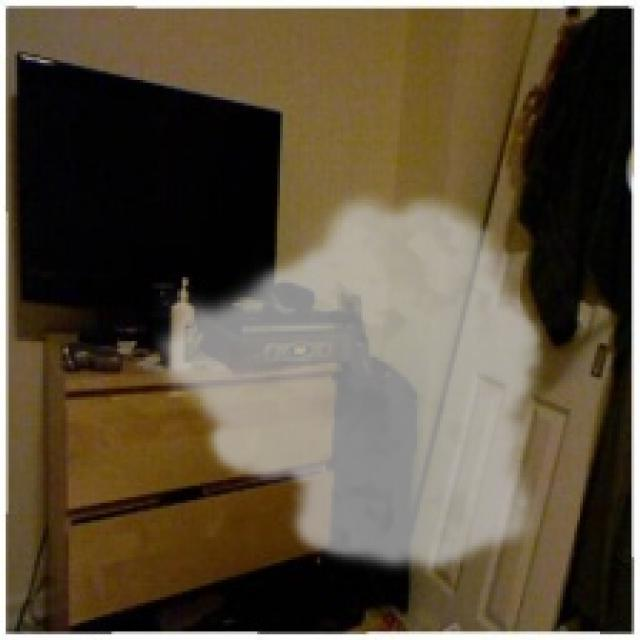smoke: (148, 183, 548, 577)
